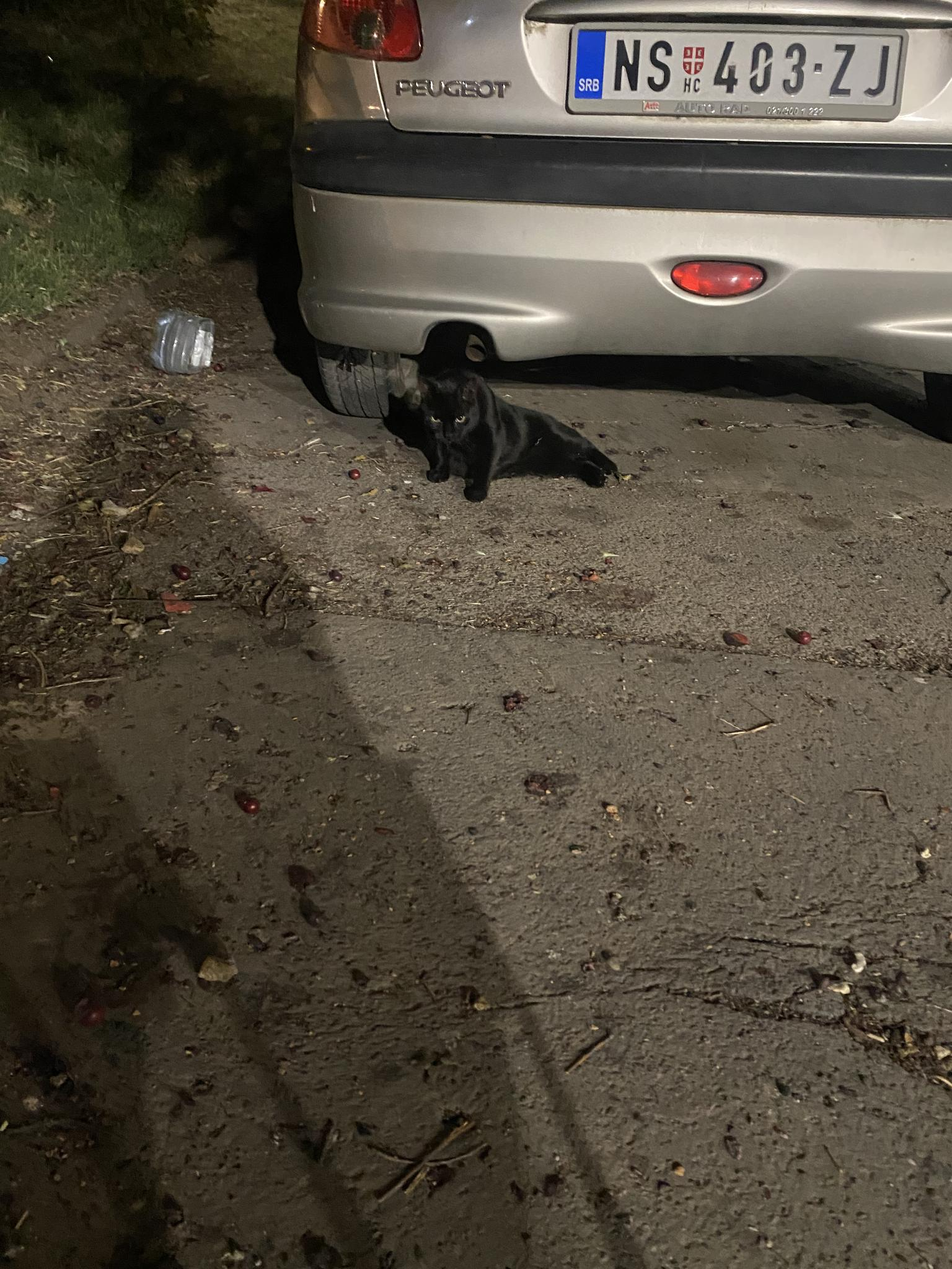macka: (415, 370, 619, 502)
